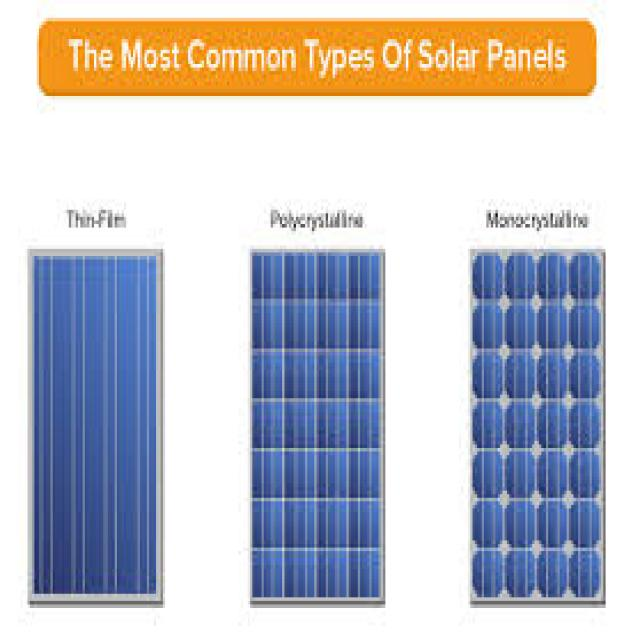Solar: (21, 250, 168, 618), (248, 243, 386, 620), (471, 244, 601, 616)
